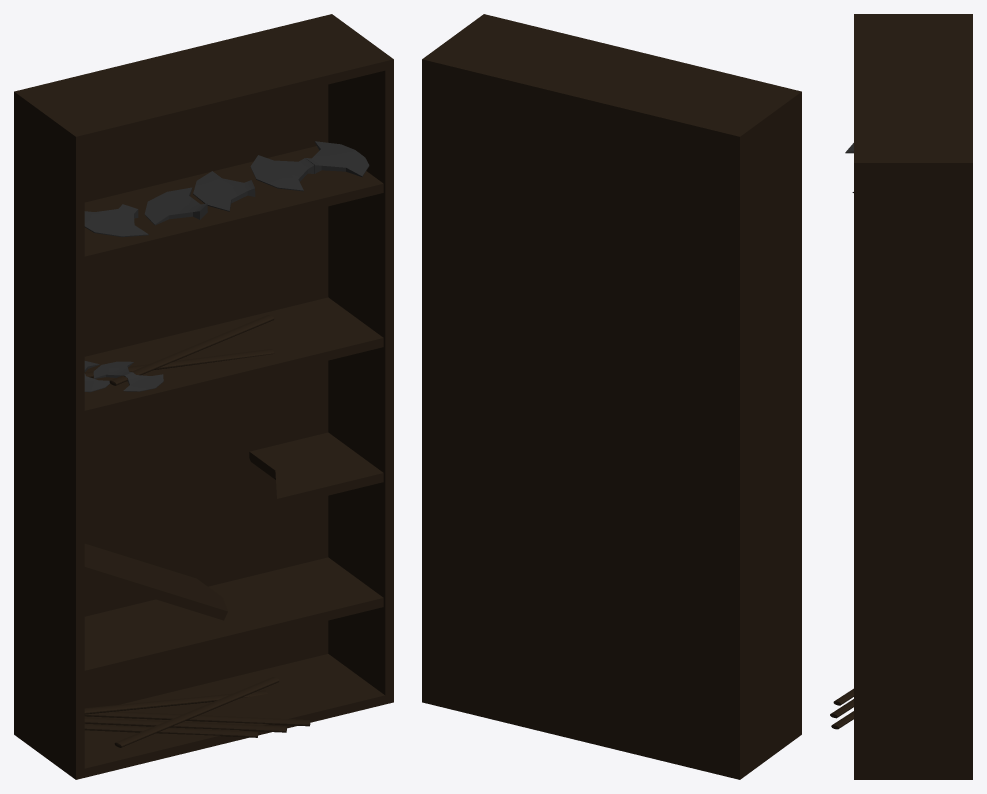
Rendered from SD2wr_cabinet_drf.fbx.
3 views of the same model, side by side, from view 1: azimuth 30°, elevation 25°; view 2: azimuth 150°, elevation 25°; view 3: azimuth 270°, elevation 25° (orthographic). The views are drawn at different scales.
Parts seen in each view (by area): view 1: SD2wr_cabinet_drf; view 2: SD2wr_cabinet_drf; view 3: SD2wr_cabinet_drf.
Part boxes in pixels (x1=…): SD2wr_cabinet_drf: x1=14, y1=14, x2=393, y2=779; SD2wr_cabinet_drf: x1=422, y1=14, x2=801, y2=779; SD2wr_cabinet_drf: x1=830, y1=14, x2=972, y2=779.
Bounding box in the file's own units: 123 × 49.97 × 238.
